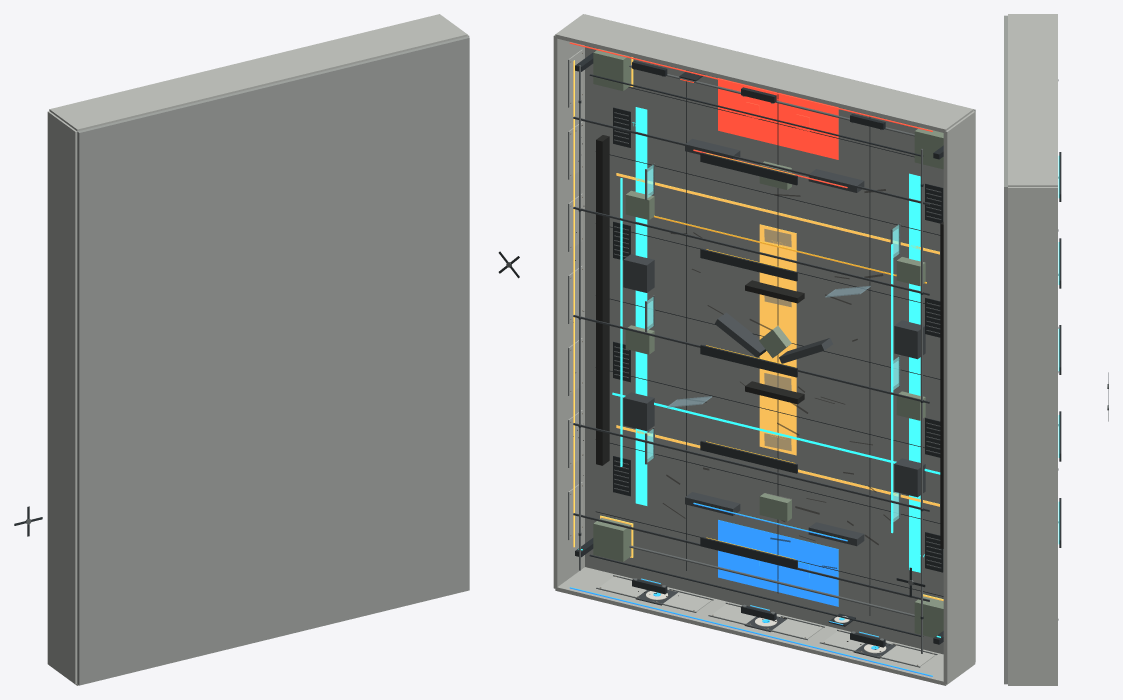
Rendered from aim_1v1_duel_box.glb.
3 renders of one model, left to right at view 1: azimuth 30°, elevation 25°; view 2: azimuth 150°, elevation 25°; view 3: azimuth 270°, elevation 25°, orthographic. The views are drawn at different scales.
Parts seen in each view (by area): view 1: aim_1v1_runtime_floor, west_long_boundary, north_spawn_back_wall; view 2: aim_1v1_runtime_floor, west_long_boundary, north_spawn_back_wall, east_long_boundary, south_spawn_back_wall, mid_timing_lane, blue_spawn_pad, red_spawn_pad, east_outer_long_rail, east_shoulder_lane_mark, west_shoulder_lane_mark, corner_block_e_s (+37 smaller); view 3: east_long_boundary, north_spawn_back_wall, aim_1v1_runtime_floor.
Boxes of the visible parts, left/top/right/bottom form: aim_1v1_runtime_floor: left=77, top=36, right=469, bottom=685; west_long_boundary: left=47, top=111, right=77, bottom=684; north_spawn_back_wall: left=49, top=14, right=467, bottom=131; aim_1v1_runtime_floor: left=585, top=14, right=975, bottom=661; west_long_boundary: left=943, top=111, right=975, bottom=684; north_spawn_back_wall: left=555, top=14, right=973, bottom=132; east_long_boundary: left=553, top=35, right=584, bottom=588; south_spawn_back_wall: left=555, top=567, right=968, bottom=685; mid_timing_lane: left=759, top=224, right=796, bottom=455; blue_spawn_pad: left=718, top=520, right=838, bottom=606; red_spawn_pad: left=718, top=78, right=838, bottom=159; east_outer_long_rail: left=596, top=135, right=609, bottom=465; east_shoulder_lane_mark: left=635, top=107, right=647, bottom=505; west_shoulder_lane_mark: left=909, top=173, right=920, bottom=572; corner_block_e_s: left=593, top=518, right=631, bottom=561; east_long_boundary: left=1008, top=187, right=1057, bottom=684; north_spawn_back_wall: left=1008, top=14, right=1057, bottom=186; aim_1v1_runtime_floor: left=1004, top=15, right=1007, bottom=684.
Size of the model in its own units: 37.16 by 46.32 by 8.78.
